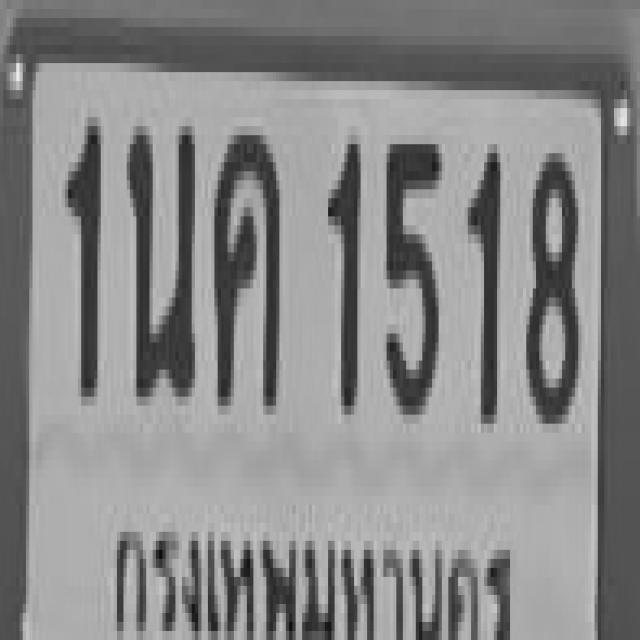1: (63, 104, 99, 392), (465, 135, 497, 415), (325, 131, 357, 401)
13KhorKhwai: (211, 122, 276, 401)
34NorNu: (124, 113, 192, 392)
5: (384, 135, 438, 406)
8: (523, 140, 575, 410)
Bangkok: (104, 505, 517, 640)
